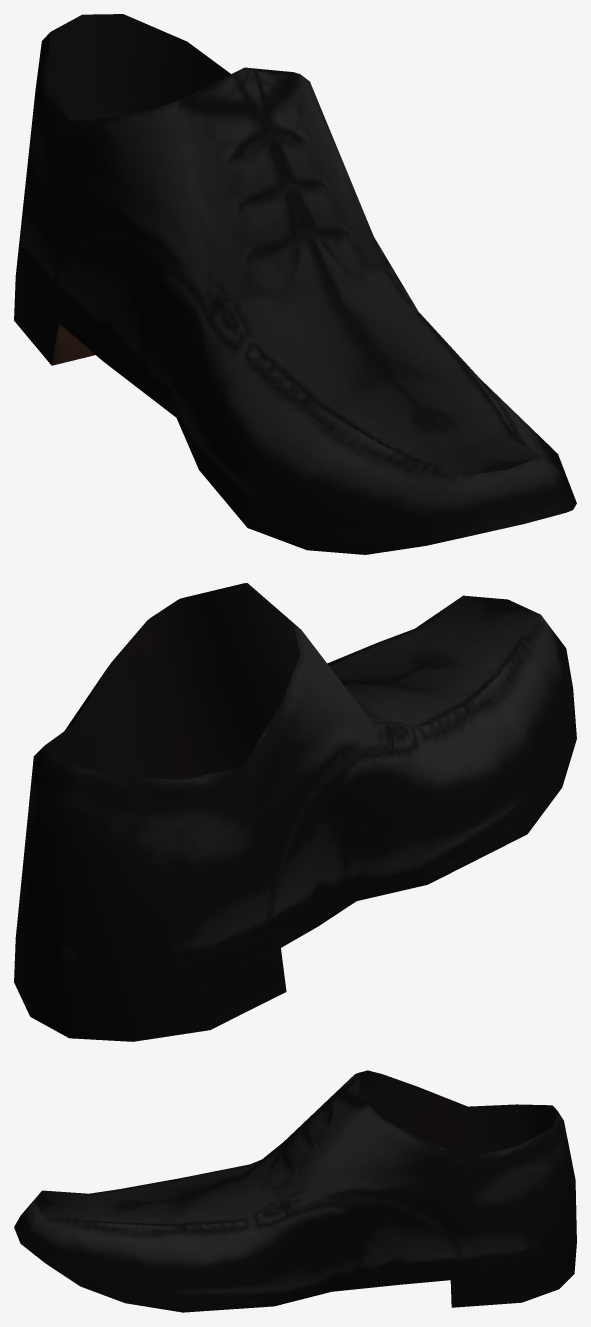
File: p6_shoe_single_02_lod0.glb
The picture shows the model from 3 angles, top to bottom: view 1: azimuth 30°, elevation 25°; view 2: azimuth 150°, elevation 25°; view 3: azimuth 270°, elevation 25°; orthographic projection. The views are drawn at different scales.
Parts seen in each view (by area): view 1: surf0; view 2: surf0; view 3: surf0.
Part boxes in pixels (box(x1,y1,x2,y2)): surf0: box(14, 14, 576, 554); surf0: box(14, 583, 576, 1041); surf0: box(14, 1070, 576, 1312).
Size of the model in its own units: 4.55 by 5.07 by 12.87.
